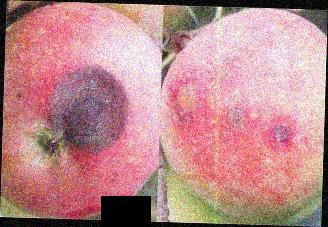rotten apple: (162, 8, 323, 221), (3, 4, 160, 217)
